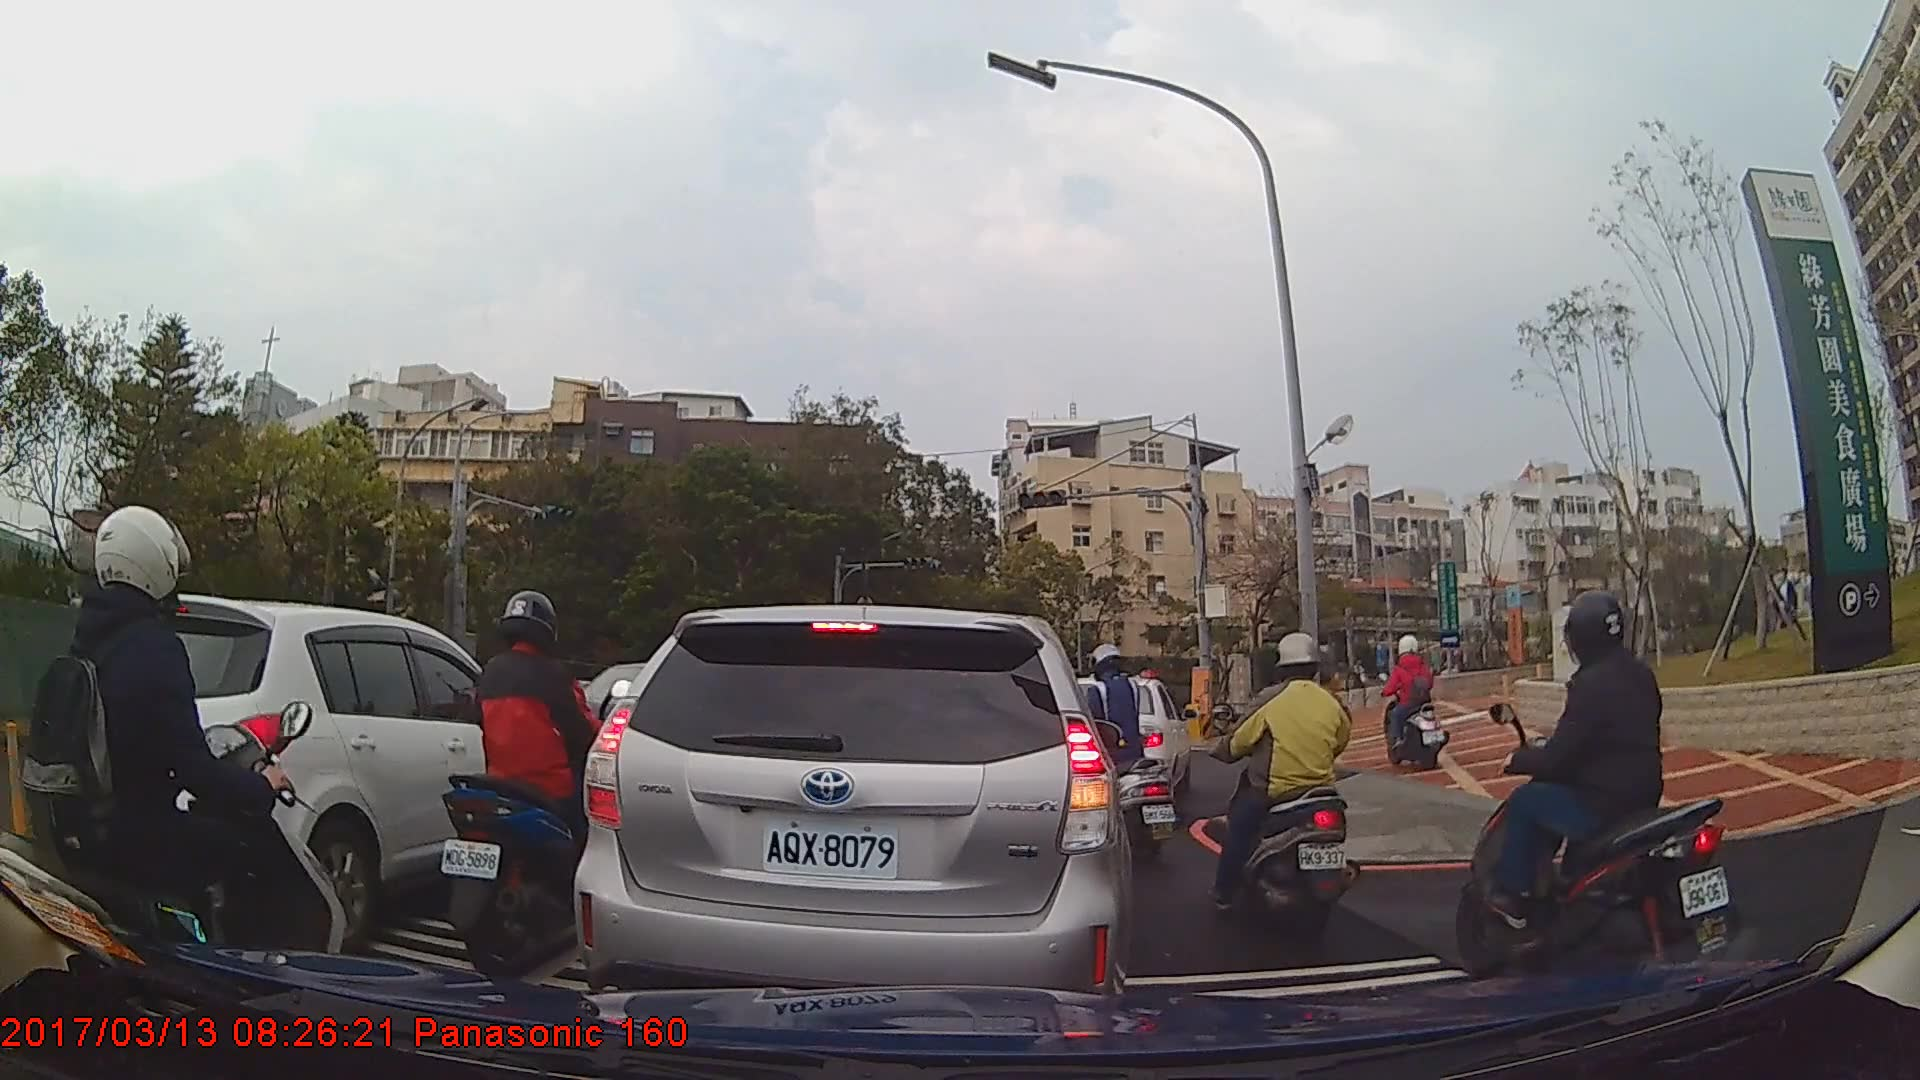pedestrian: (1764, 558, 1806, 632), (1758, 573, 1791, 636)
rider: (1, 498, 355, 1055), (1464, 584, 1741, 1003), (434, 585, 625, 969), (1201, 632, 1360, 925), (1061, 642, 1181, 861), (1375, 636, 1449, 770)
vehicle: (573, 603, 1132, 1022), (43, 591, 579, 936)
